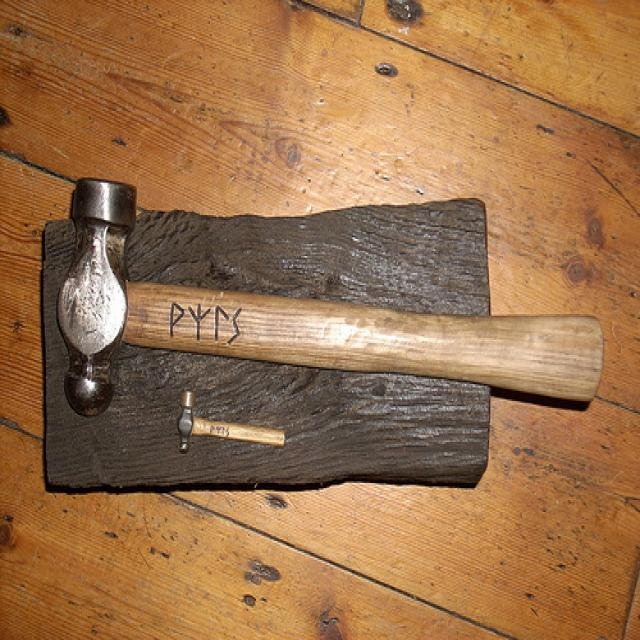hammer: (49, 133, 596, 482)
